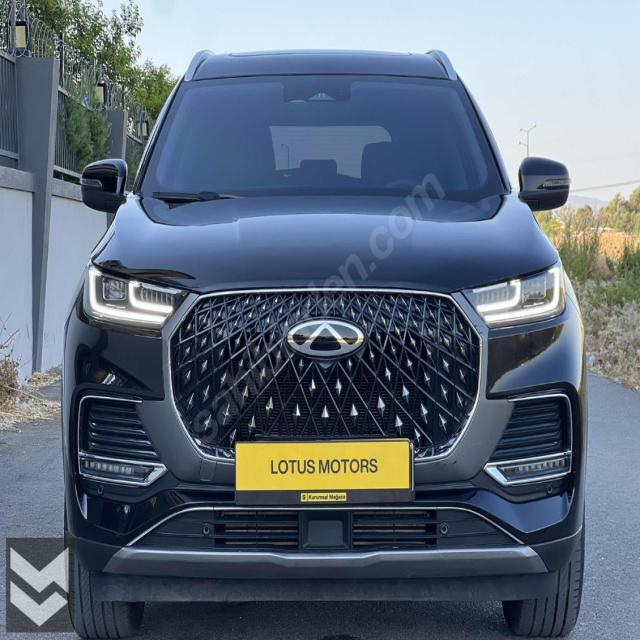cherry: (285, 316, 367, 360)
